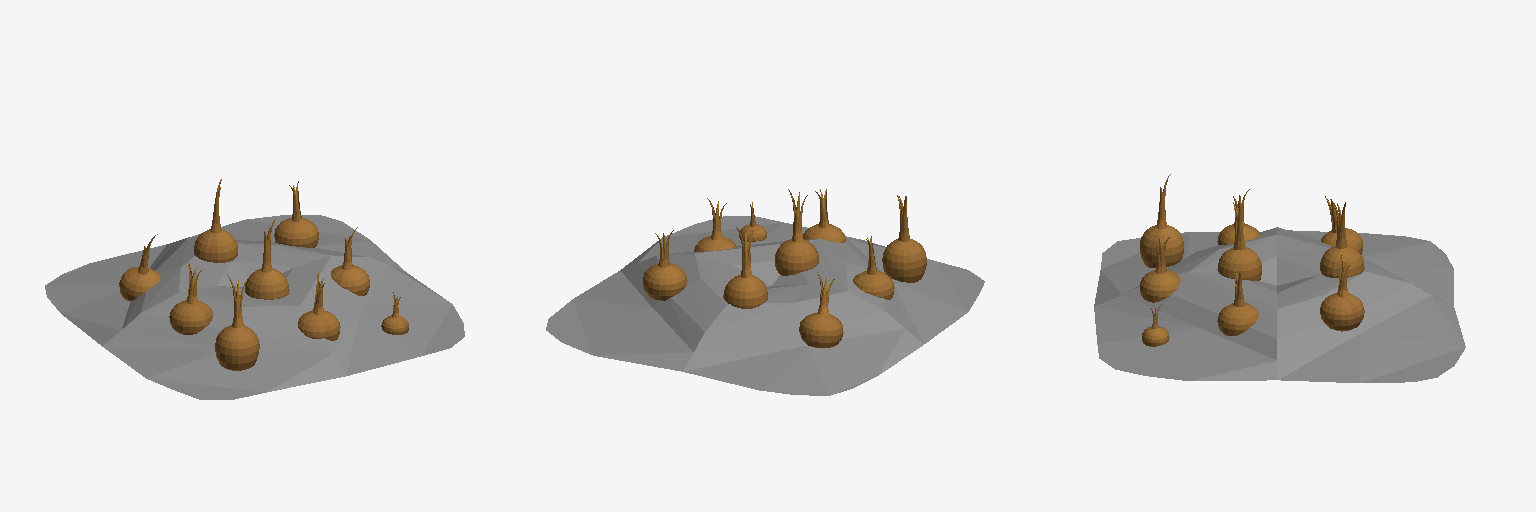
3 views of the same model, side by side, from view 1: azimuth 30°, elevation 25°; view 2: azimuth 150°, elevation 25°; view 3: azimuth 270°, elevation 25° (orthographic).
Parts seen in each view (by area): view 1: Onion_lod0_High; view 2: Onion_lod0_High; view 3: Onion_lod0_High.
Part boxes in pixels (left/top/right/bottom): Onion_lod0_High: left=45, top=179, right=464, bottom=399; Onion_lod0_High: left=546, top=189, right=984, bottom=395; Onion_lod0_High: left=1094, top=174, right=1465, bottom=382.
Bounding box in the file's own units: 1670 × 562 × 1735.
2 materials, 1 textured.